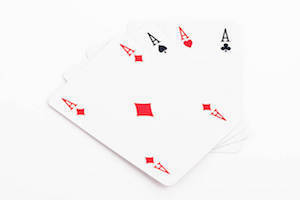AceOfClubs: (212, 20, 244, 71), (139, 27, 172, 58)
AceOfDiamonds: (48, 53, 241, 187)
AceOfHearts: (173, 23, 207, 63)
